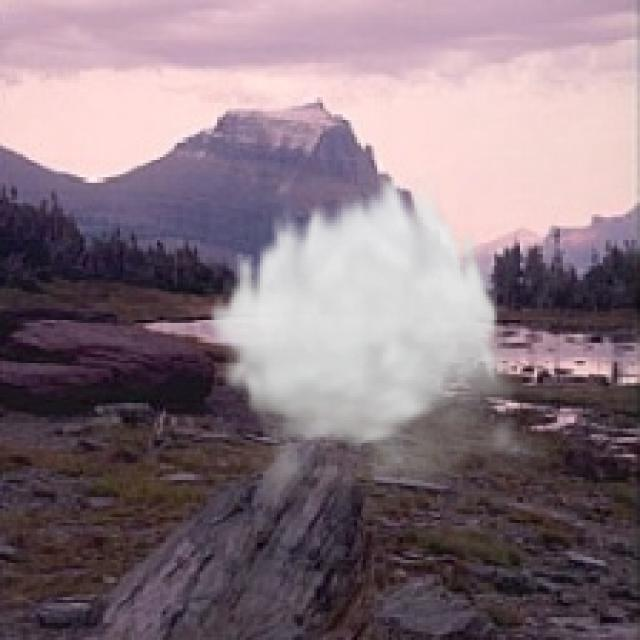smoke: (206, 166, 563, 514)
